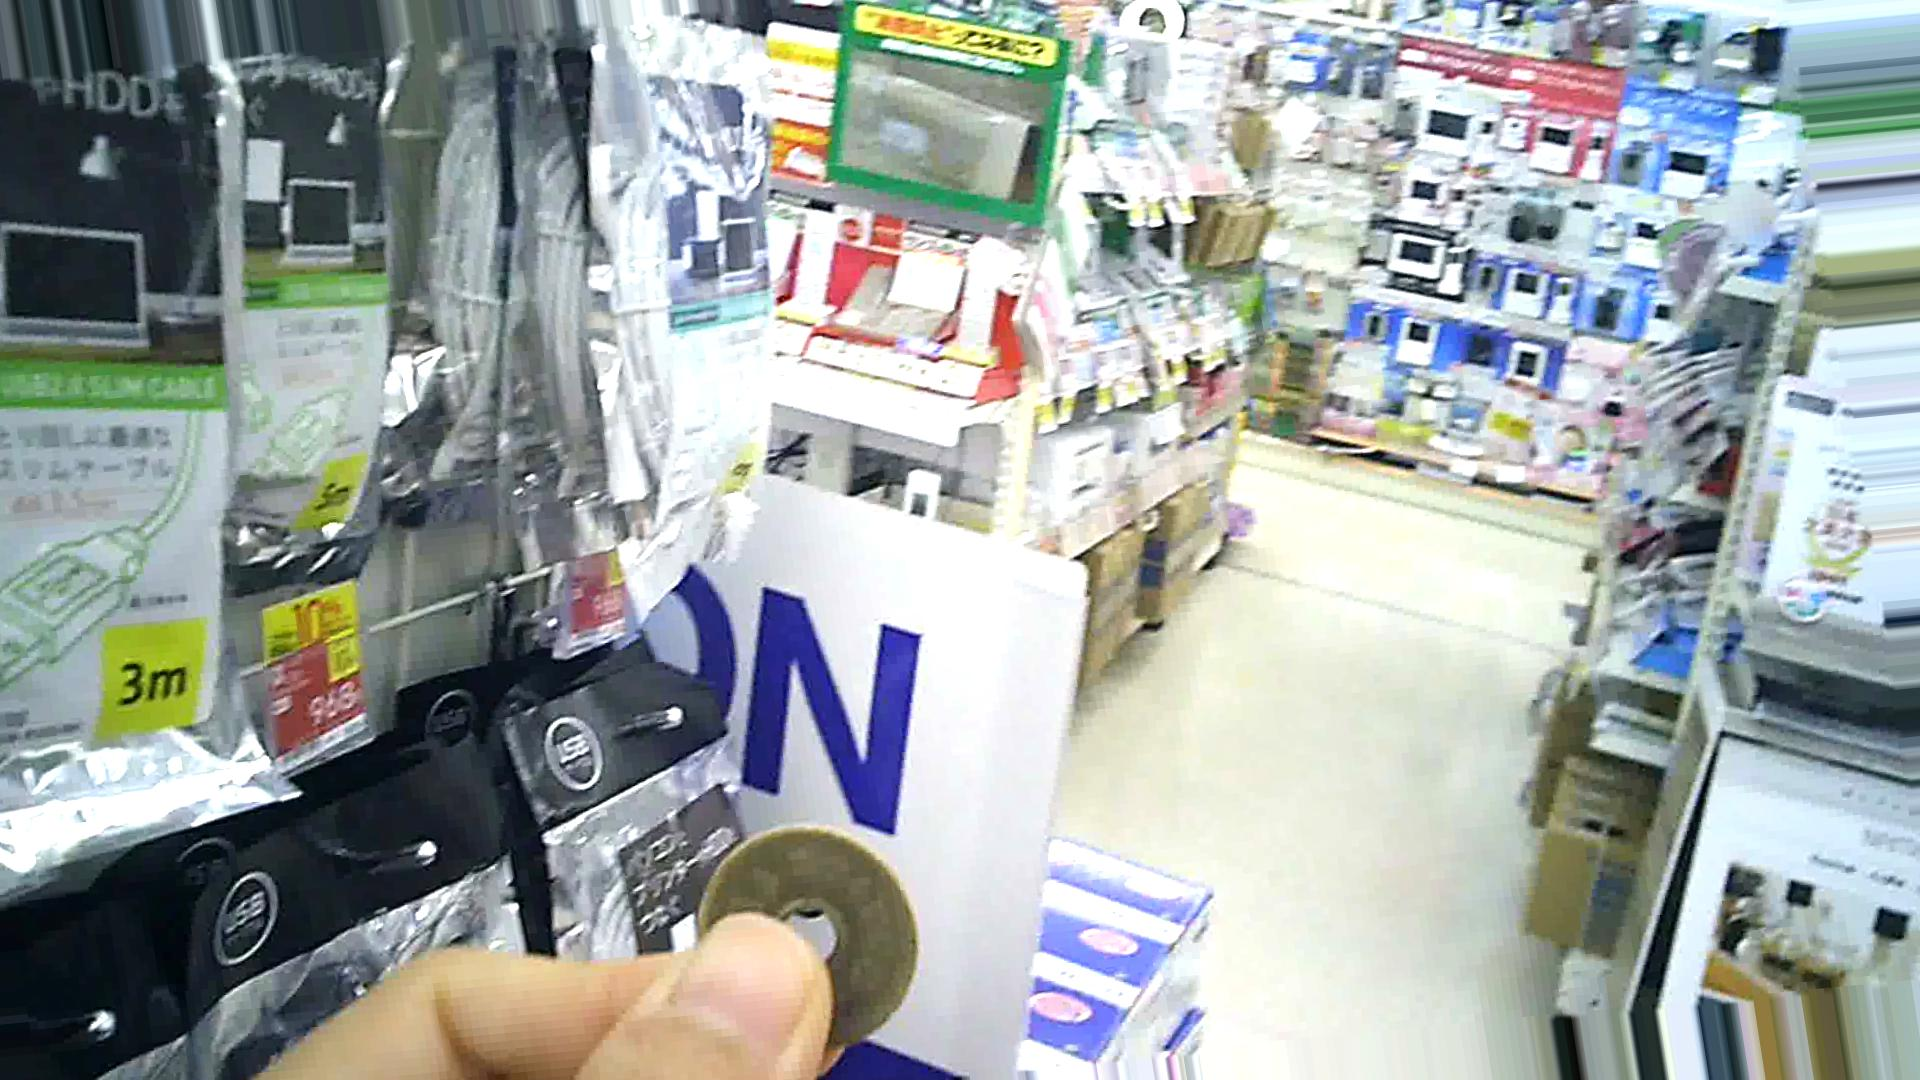5 Yen: (683, 825, 928, 1044)
